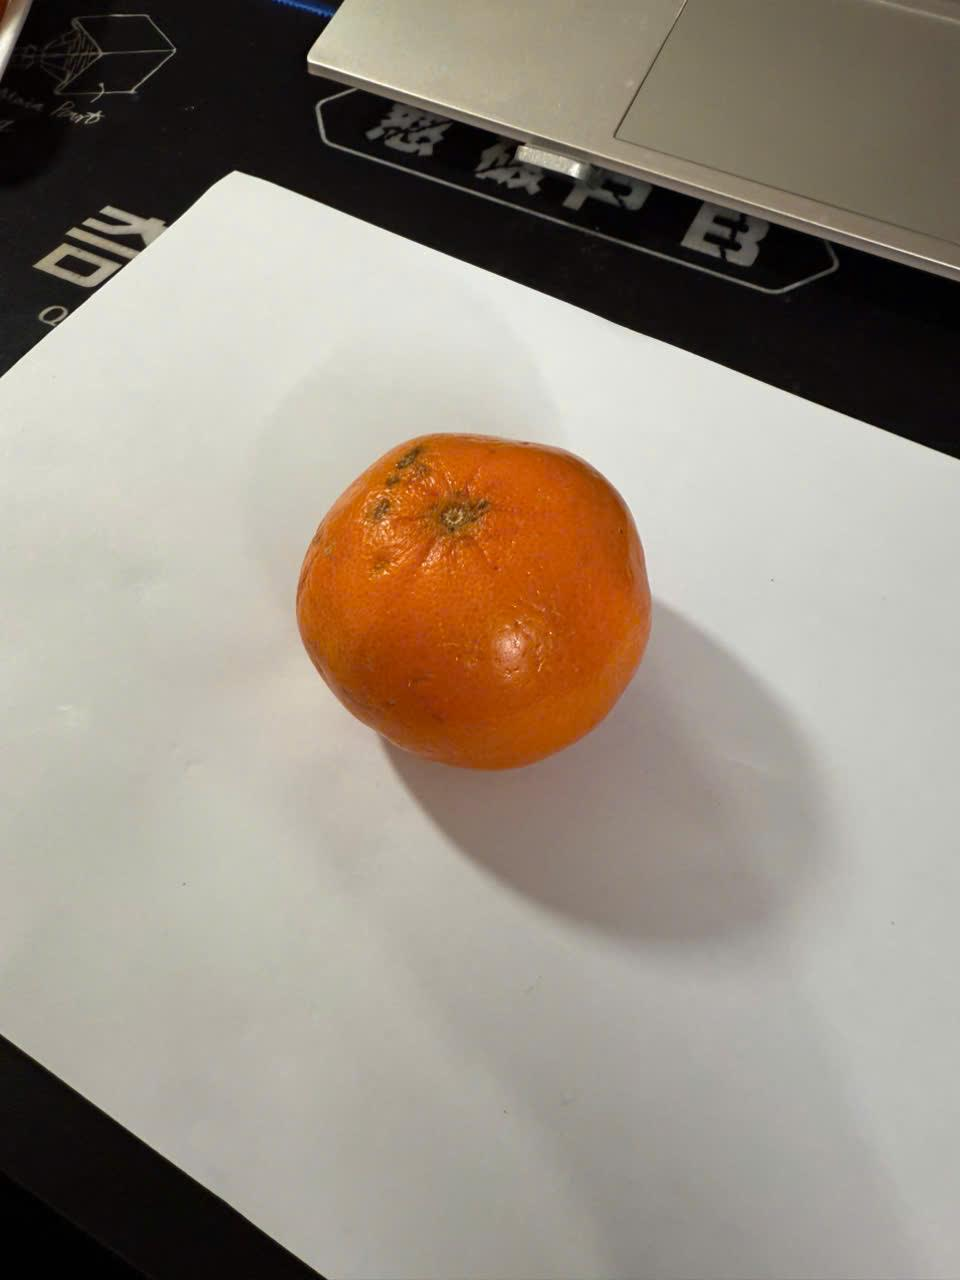orange: (290, 415, 664, 784)
